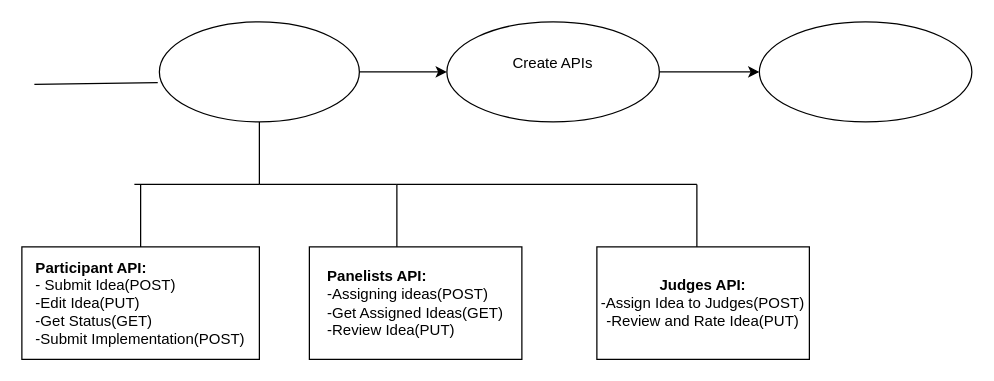
This 994x381 diagram has some shape labels left out. The shapes that lost their labels are listed below. From the top down, each one's box as (x1, y1, x2, y2) in pixels, then its label:
(158, 21, 359, 122): API ENDPOINT
(758, 21, 972, 122): Connect with Database and create tables using entity
